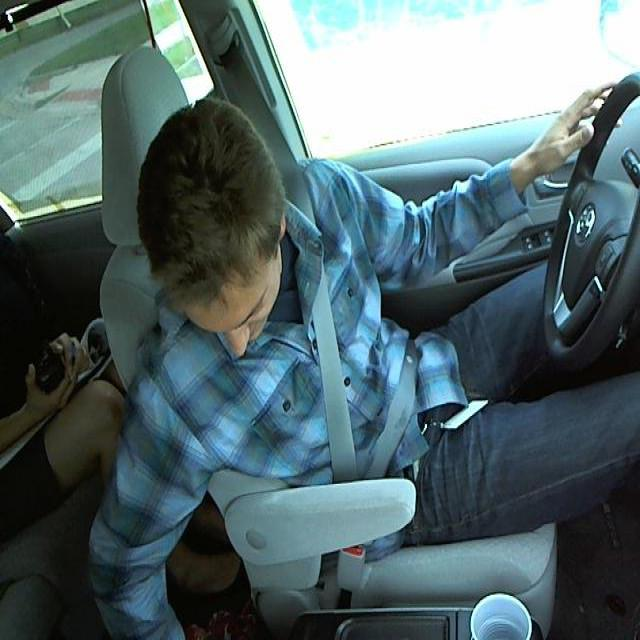seatbelt: (274, 179, 414, 473)
